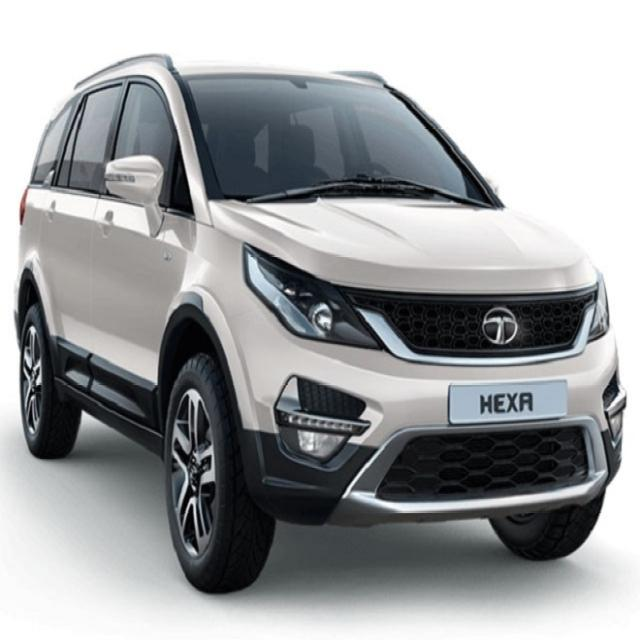Car: (5, 50, 624, 606)
